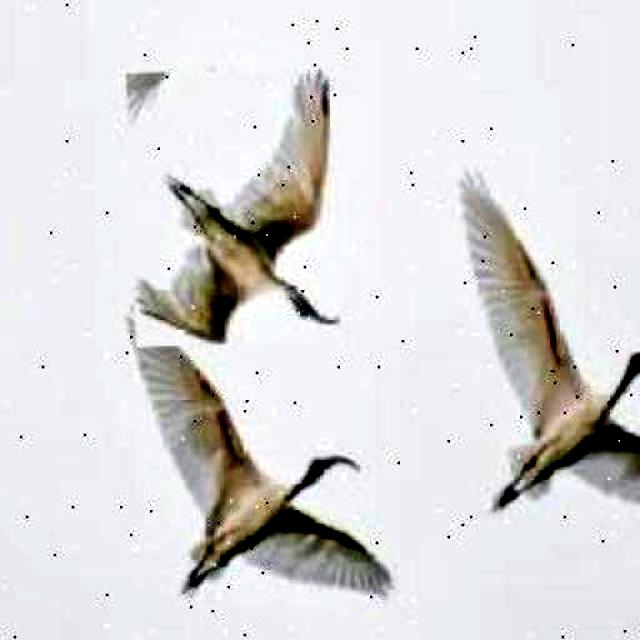airplane: (124, 288, 392, 609), (458, 162, 640, 522), (125, 65, 341, 348)
